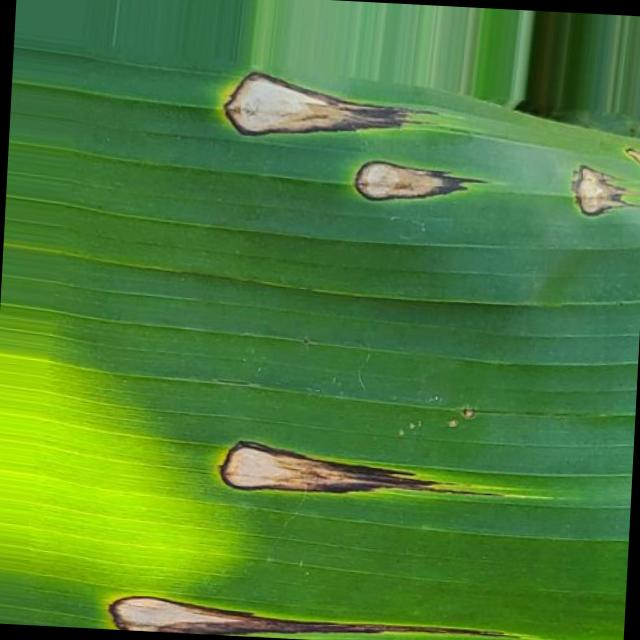Banana_Black_Sigatoka: (172, 12, 598, 301), (182, 380, 491, 568), (42, 518, 469, 640)
